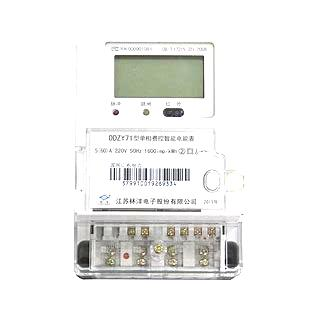digital: (68, 32, 246, 220)
